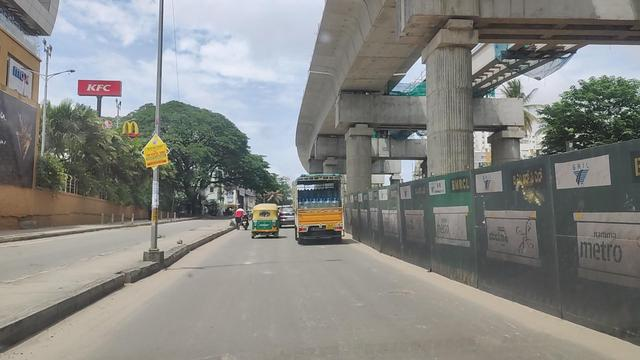HMV: (293, 170, 344, 248)
LMV: (249, 203, 276, 240)
